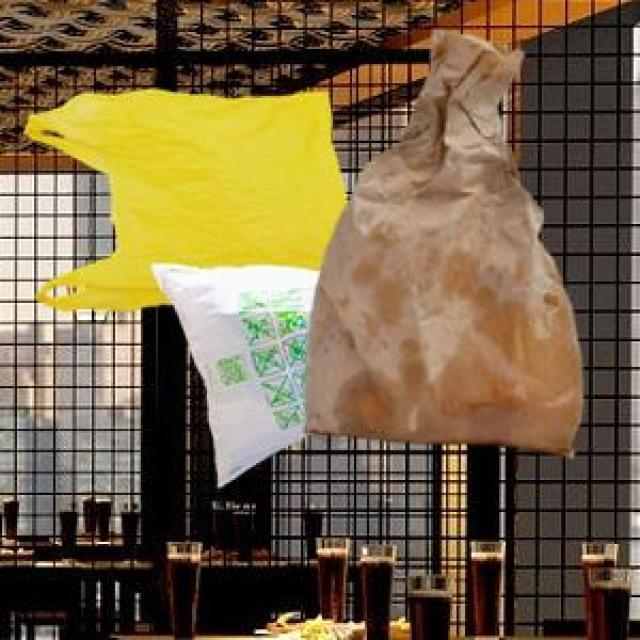paper: (301, 26, 578, 454)
